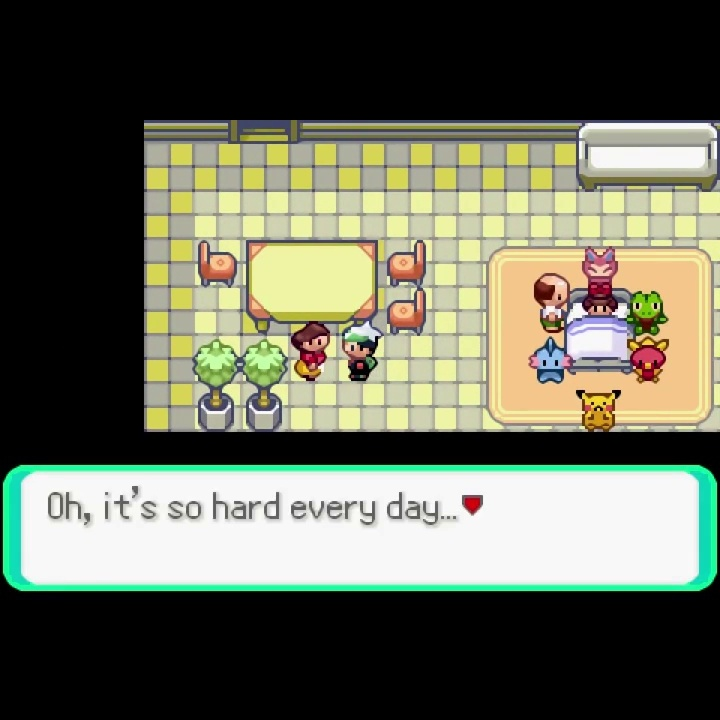npc: (341, 319, 384, 384), (289, 318, 332, 380), (530, 271, 573, 332), (581, 281, 621, 320)
